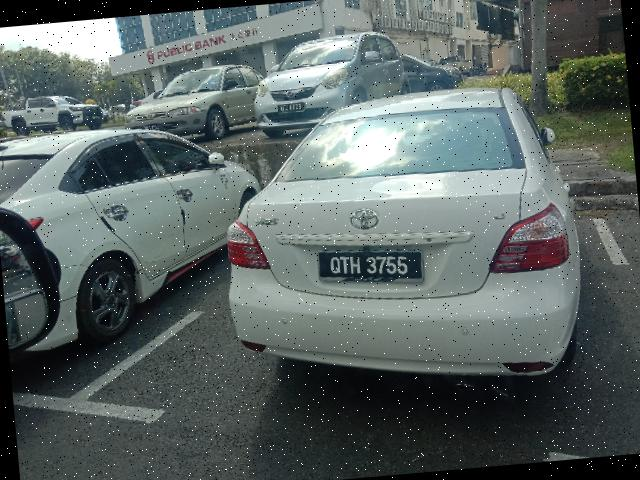License_Plate: (319, 244, 426, 293), (279, 104, 307, 115)
car: (209, 70, 608, 414), (1, 102, 294, 367), (248, 15, 423, 139), (114, 60, 269, 154)
